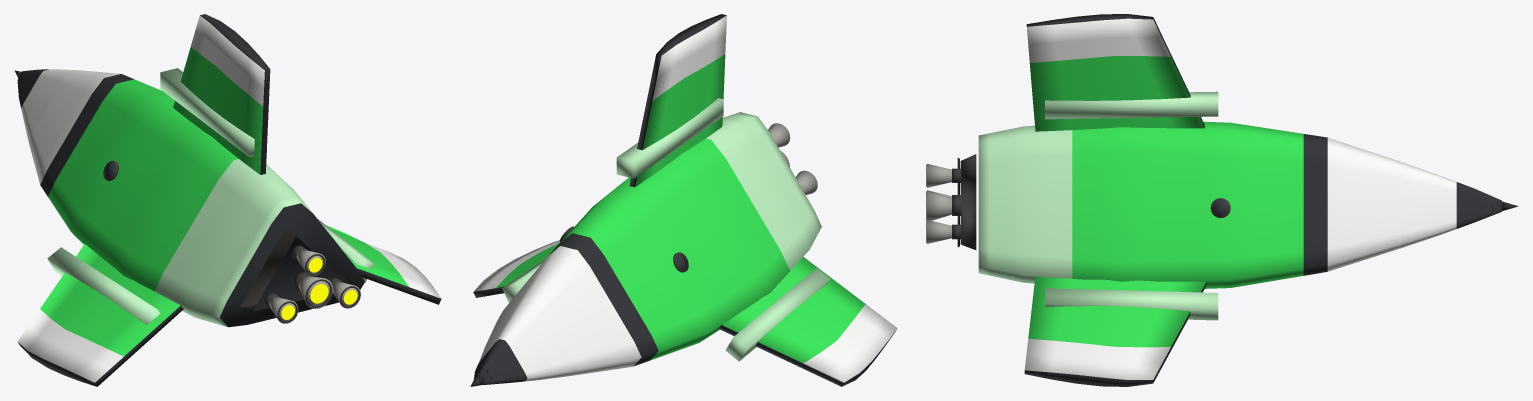
The model's file is Ship_Standard_14.glb.
3 renders of one model, left to right at view 1: azimuth 30°, elevation 25°; view 2: azimuth 150°, elevation 25°; view 3: azimuth 270°, elevation 25°, orthographic. The views are drawn at different scales.
Parts seen in each view (by area): view 1: Fuselage_RoundedTriangleTriFoldBody, Wing_LowerLeft_TriFoldCornerBladePaintedMesh, Wing_Dorsal_TriFoldCornerBladePaintedMesh, Wing_LowerRight_TriFoldCornerBladePaintedMesh, WingRootSocket_LowerLeft_IntegratedEmbeddedShoulder, WingRootSocket_Dorsal_IntegratedEmbeddedShoulder, Nose_RoundedTriangleTaperedForwardSection, EngineBlock_AftTriFoldTrimFrame, EngineBlock_AftTriangularIntegratedMountPlate, EngineEmitter, WingRootSocket_LowerRight_IntegratedEmbeddedShoulder, EngineBell_Center_BurnishedNozzle (+2 smaller); view 2: Fuselage_RoundedTriangleTriFoldBody, Wing_LowerLeft_TriFoldCornerBladePaintedMesh, Wing_Dorsal_TriFoldCornerBladePaintedMesh, Nose_RoundedTriangleTaperedForwardSection, WingRootSocket_Dorsal_IntegratedEmbeddedShoulder, WingRootSocket_LowerLeft_IntegratedEmbeddedShoulder, Wing_LowerRight_TriFoldCornerBladePaintedMesh, WingRootSocket_LowerRight_IntegratedEmbeddedShoulder, EngineBell_LowerLeft_BurnishedNozzle, EngineBell_Dorsal_BurnishedNozzle; view 3: Fuselage_RoundedTriangleTriFoldBody, Wing_Dorsal_TriFoldCornerBladePaintedMesh, Wing_LowerRight_TriFoldCornerBladePaintedMesh, Nose_RoundedTriangleTaperedForwardSection, WingRootSocket_Dorsal_IntegratedEmbeddedShoulder, WingRootSocket_LowerRight_IntegratedEmbeddedShoulder, EngineBlock_AftTriangularIntegratedMountPlate, EngineBell_Center_BurnishedNozzle.
Boxes of the visible parts, <box> form: Fuselage_RoundedTriangleTriFoldBody: <box>28,70,364,327</box>; Wing_LowerLeft_TriFoldCornerBladePaintedMesh: <box>17,244,183,386</box>; Wing_Dorsal_TriFoldCornerBladePaintedMesh: <box>173,14,270,174</box>; Wing_LowerRight_TriFoldCornerBladePaintedMesh: <box>326,225,441,304</box>; WingRootSocket_LowerLeft_IntegratedEmbeddedShoulder: <box>47,247,160,324</box>; WingRootSocket_Dorsal_IntegratedEmbeddedShoulder: <box>160,68,266,157</box>; Nose_RoundedTriangleTaperedForwardSection: <box>17,69,79,141</box>; EngineBlock_AftTriFoldTrimFrame: <box>253,236,349,311</box>; EngineBlock_AftTriangularIntegratedMountPlate: <box>240,226,347,308</box>; EngineEmitter: <box>281,257,357,319</box>; WingRootSocket_LowerRight_IntegratedEmbeddedShoulder: <box>318,219,374,282</box>; EngineBell_Center_BurnishedNozzle: <box>298,276,333,308</box>; Fuselage_RoundedTriangleTriFoldBody: <box>485,112,821,375</box>; Wing_LowerLeft_TriFoldCornerBladePaintedMesh: <box>718,257,897,386</box>; Wing_Dorsal_TriFoldCornerBladePaintedMesh: <box>629,14,726,187</box>; Nose_RoundedTriangleTaperedForwardSection: <box>474,298,577,384</box>; WingRootSocket_Dorsal_IntegratedEmbeddedShoulder: <box>616,98,723,178</box>; WingRootSocket_LowerLeft_IntegratedEmbeddedShoulder: <box>725,268,830,361</box>; Wing_LowerRight_TriFoldCornerBladePaintedMesh: <box>473,240,560,297</box>; WingRootSocket_LowerRight_IntegratedEmbeddedShoulder: <box>502,258,545,302</box>; EngineBell_LowerLeft_BurnishedNozzle: <box>796,170,817,194</box>; EngineBell_Dorsal_BurnishedNozzle: <box>768,123,790,147</box>; Fuselage_RoundedTriangleTriFoldBody: <box>978,121,1400,288</box>; Wing_Dorsal_TriFoldCornerBladePaintedMesh: <box>1026,14,1204,131</box>; Wing_LowerRight_TriFoldCornerBladePaintedMesh: <box>1024,277,1206,386</box>; Nose_RoundedTriangleTaperedForwardSection: <box>1401,162,1501,248</box>; WingRootSocket_Dorsal_IntegratedEmbeddedShoulder: <box>1045,91,1218,119</box>; WingRootSocket_LowerRight_IntegratedEmbeddedShoulder: <box>1045,288,1218,320</box>; EngineBlock_AftTriangularIntegratedMountPlate: <box>960,154,976,249</box>; EngineBell_Center_BurnishedNozzle: <box>927,190,951,220</box>.
Bounding box in the file's own units: 5.57 × 4.15 × 7.83.
